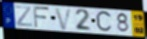2: (74, 8, 93, 32)
8: (116, 13, 131, 34)
C: (95, 10, 114, 34)
F: (32, 5, 51, 29)
V: (54, 7, 74, 31)
Z: (15, 6, 33, 28)
